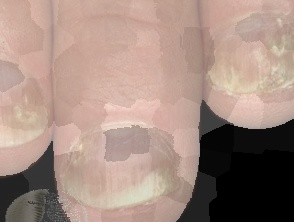Nail_psoriasis: (43, 102, 196, 222), (203, 8, 294, 112), (0, 75, 64, 162)
